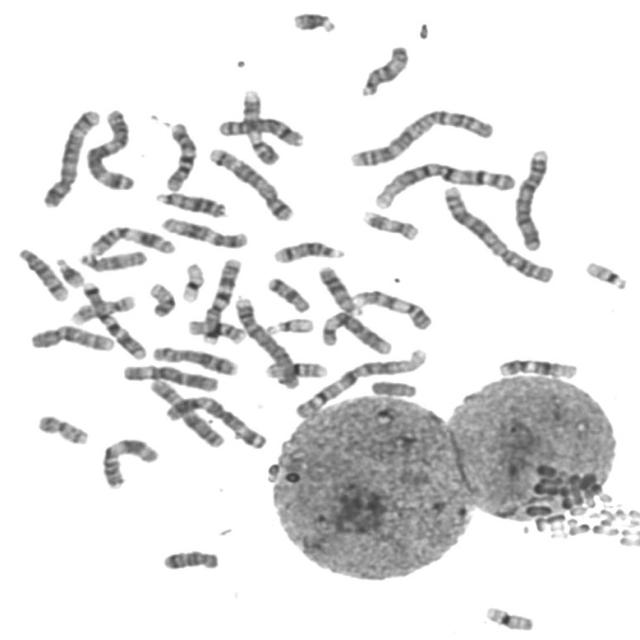A1: (289, 344, 430, 420), (369, 156, 517, 211)
A2: (437, 179, 557, 285), (344, 103, 495, 169)
A3: (156, 388, 270, 450), (80, 103, 137, 192)
B4: (230, 291, 302, 391), (508, 143, 552, 252)
B5: (202, 141, 297, 222), (37, 103, 103, 209)
C10: (24, 320, 118, 353), (159, 116, 199, 193)
C11: (96, 432, 160, 490), (84, 221, 177, 256)
C12: (155, 211, 251, 250), (492, 352, 581, 380)
C6: (316, 307, 394, 356), (117, 359, 220, 393)
C7: (77, 276, 148, 361), (197, 253, 244, 345)
C8: (146, 340, 240, 377), (212, 111, 306, 148)
C9: (348, 285, 435, 331), (235, 84, 282, 166)
D13: (314, 261, 365, 316), (150, 186, 228, 220)
D14: (12, 242, 71, 303), (268, 235, 347, 265)
D15: (354, 40, 411, 98), (74, 244, 149, 272)
E16: (183, 313, 248, 345), (260, 356, 330, 381)
E17: (65, 290, 139, 326), (358, 205, 422, 242)
E18: (262, 272, 311, 314), (156, 544, 222, 572)
F19: (479, 600, 536, 633), (176, 257, 206, 304)
F20: (31, 409, 90, 446), (144, 278, 177, 318)
G21: (286, 5, 338, 35), (51, 253, 85, 288)
G22: (580, 256, 630, 290), (262, 312, 316, 336)
X: (145, 374, 226, 449)
Y: (366, 375, 419, 399)
